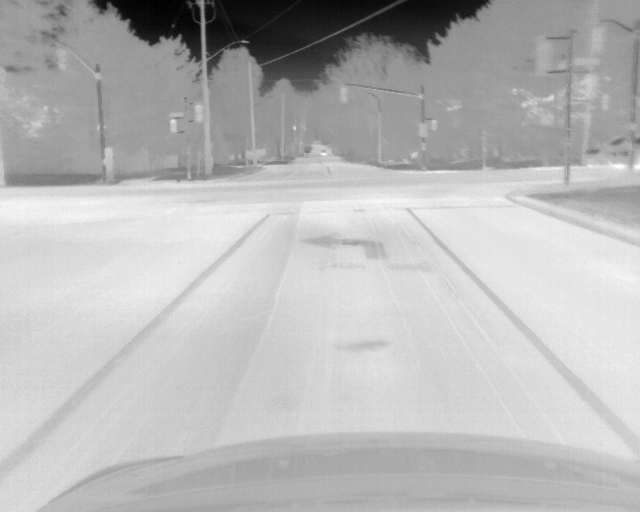car: (584, 132, 640, 169)
